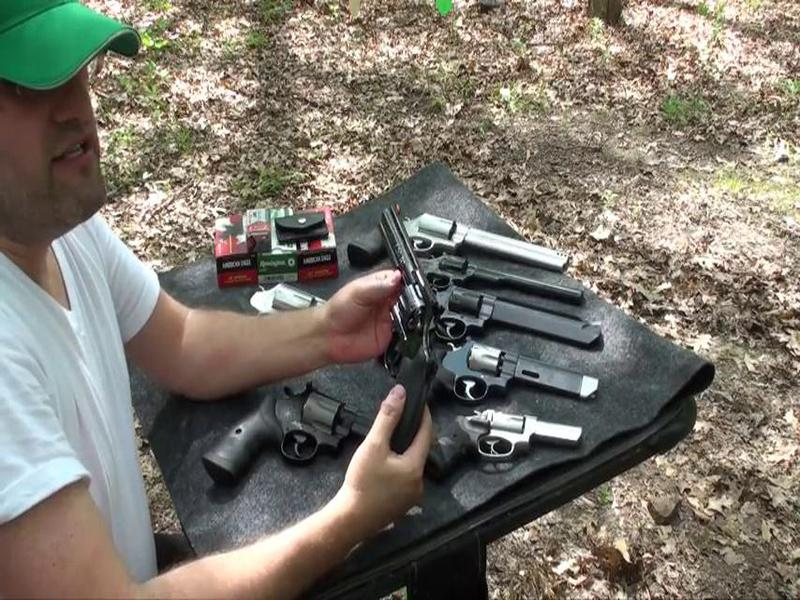Revolver: (324, 193, 449, 456)
